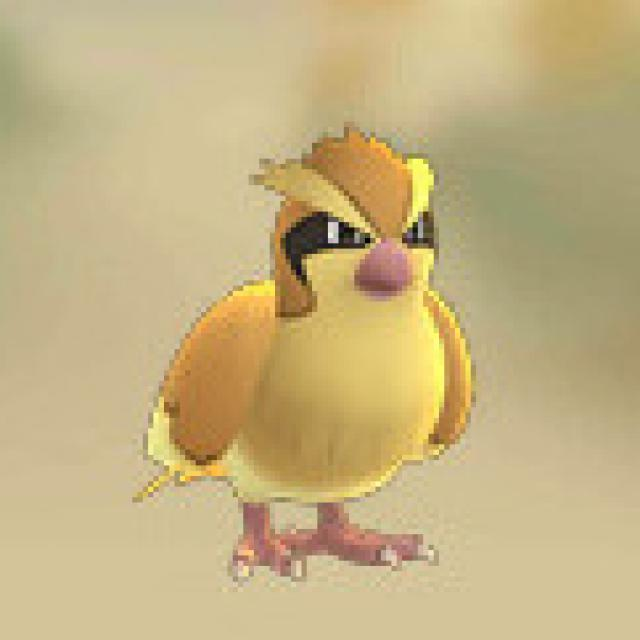Pidgey: (128, 129, 486, 579)
